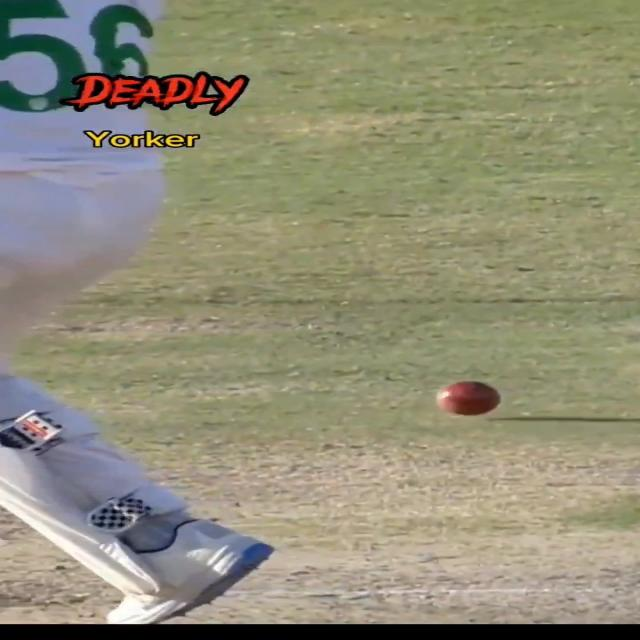Cricket ball: (431, 378, 508, 418)
